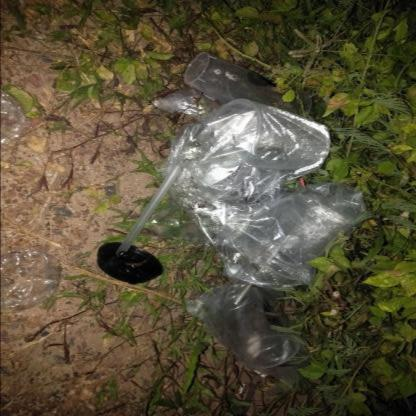Cup: (184, 52, 312, 118)
Lid: (97, 242, 163, 283)
Other plastic: (1, 249, 62, 310), (1, 87, 31, 148)
Plastic bag - wrapper: (148, 88, 366, 385)
Straw: (114, 165, 181, 257), (233, 234, 291, 305), (299, 178, 305, 187)
